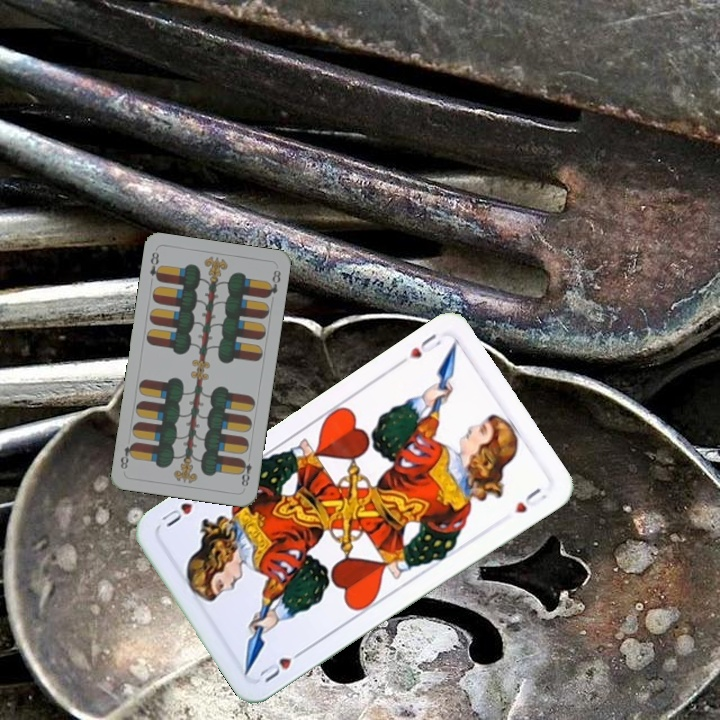E8: (236, 455, 254, 491), (146, 248, 164, 284)
HU: (255, 645, 308, 685), (404, 329, 444, 362)
